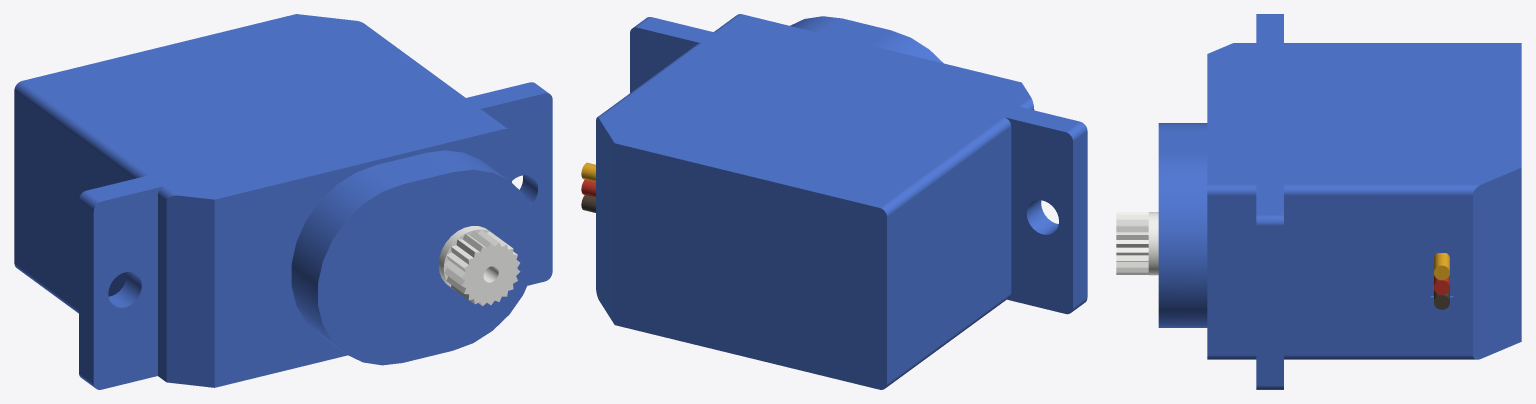
Rendered from adafruit_sg51r.glb.
The picture shows the model from 3 angles, left to right: view 1: azimuth 30°, elevation 25°; view 2: azimuth 150°, elevation 25°; view 3: azimuth 270°, elevation 25°; orthographic projection. The views are drawn at different scales.
Visible parts, largest first — view 1: Submicro Servo SG51R 2201 v5; view 2: Submicro Servo SG51R 2201 v5; view 3: Submicro Servo SG51R 2201 v5.
Boxes of the visible parts, left/top/right/bottom form: Submicro Servo SG51R 2201 v5: left=14, top=14, right=552, bottom=389; Submicro Servo SG51R 2201 v5: left=581, top=14, right=1087, bottom=389; Submicro Servo SG51R 2201 v5: left=1116, top=14, right=1521, bottom=389.
Bounding box in the file's own units: 0.0301 × 0.0118 × 0.0249.
